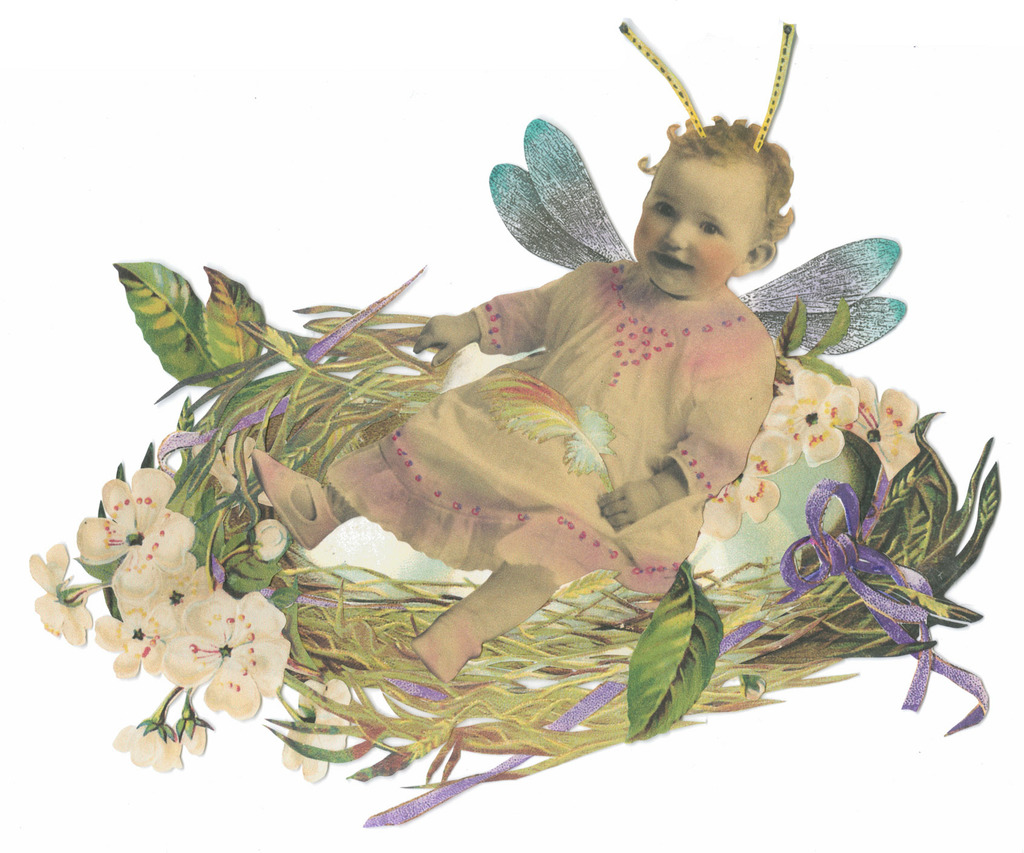Person: (251, 108, 798, 683)
